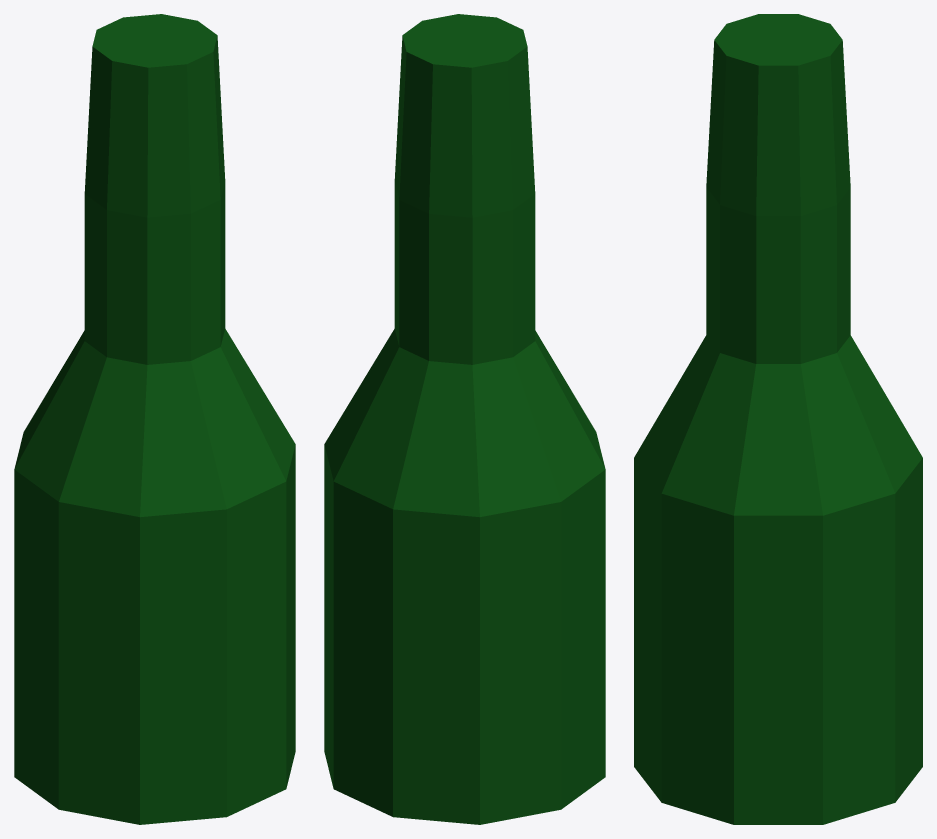
Rendered from Garbage2.fbx.
3 views of the same model, side by side, from view 1: azimuth 30°, elevation 25°; view 2: azimuth 150°, elevation 25°; view 3: azimuth 270°, elevation 25° (orthographic).
Visible parts, largest first — view 1: Cylinder; view 2: Cylinder; view 3: Cylinder.
Boxes of the visible parts, x1,y1,x2,y2 form: Cylinder: (14, 14, 295, 824); Cylinder: (324, 14, 605, 824); Cylinder: (634, 14, 922, 824).
Bounding box in the file's own units: 190 × 555 × 200.
